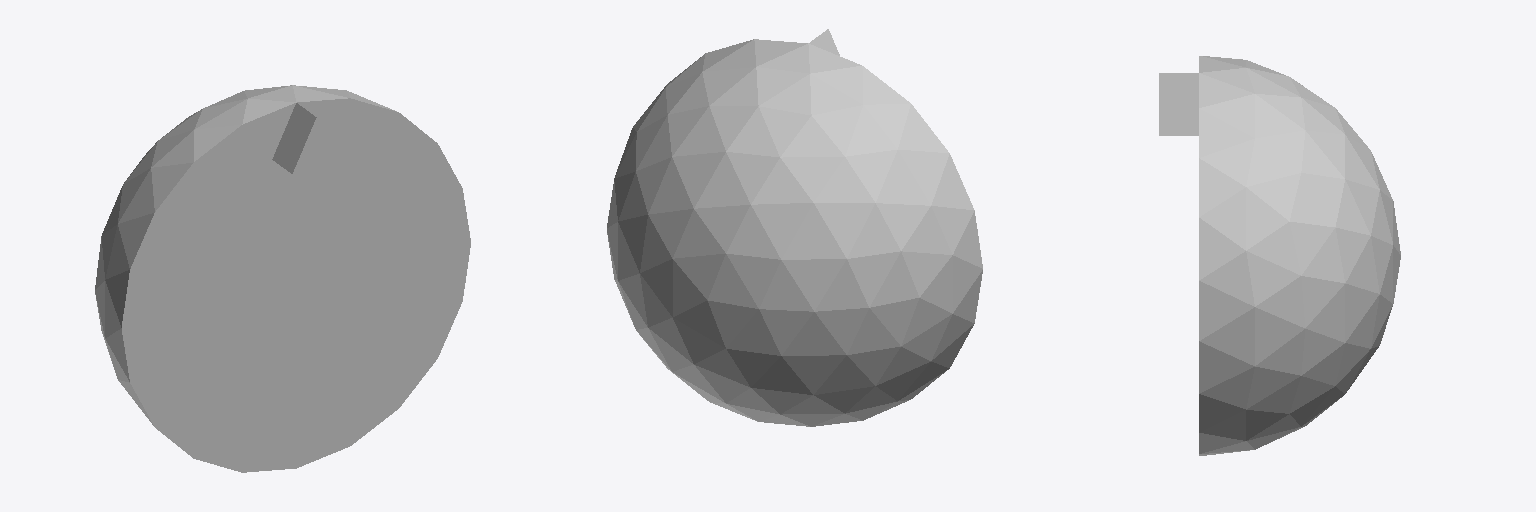
File: nodes2D.obj
3 renders of one model, left to right at view 1: azimuth 30°, elevation 25°; view 2: azimuth 150°, elevation 25°; view 3: azimuth 270°, elevation 25°, orthographic.
Visible parts, largest first — view 1: nodes2D; view 2: nodes2D; view 3: nodes2D.
Boxes of the visible parts, <box> form: nodes2D: <box>95,85,470,472</box>; nodes2D: <box>607,29,982,426</box>; nodes2D: <box>1159,56,1400,455</box>.
Bounding box in the file's own units: 25 × 25 × 15.